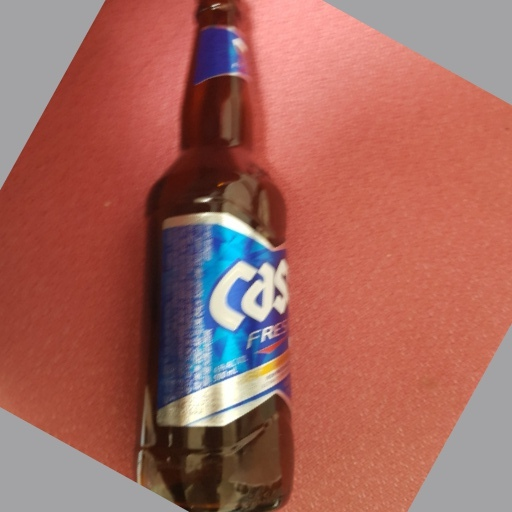Glass_1: (131, 1, 296, 512)
